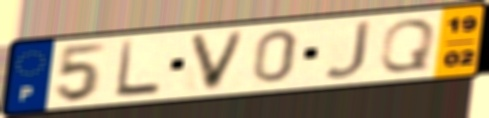0: (251, 27, 301, 86)
5: (54, 40, 109, 104)
J: (320, 18, 375, 82)
L: (112, 38, 164, 100)
Q: (376, 17, 439, 74)
V: (185, 28, 250, 94)
